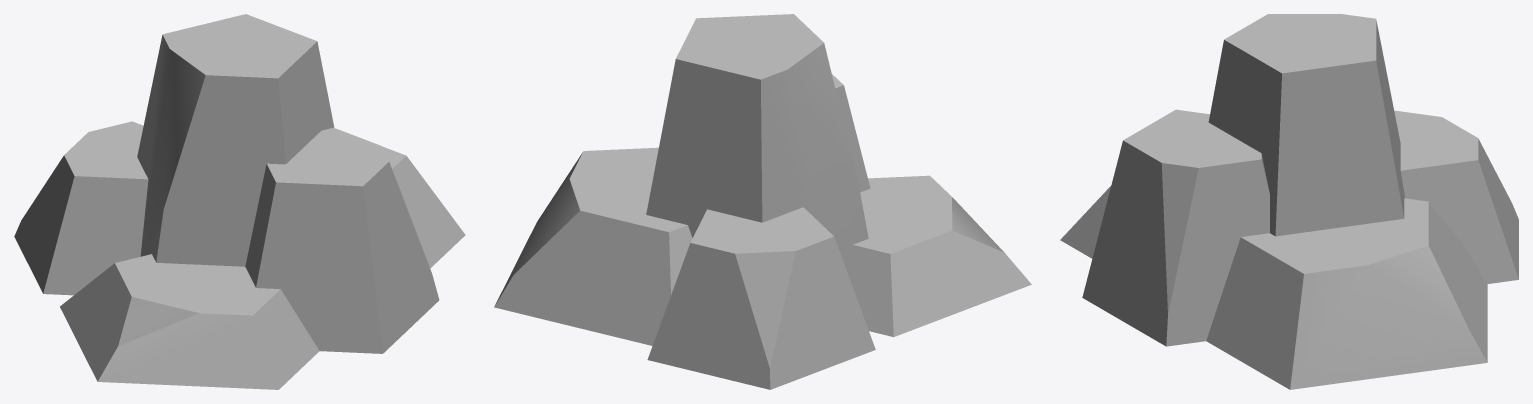
The model's file is rockB3.fbx.
The picture shows the model from 3 angles, left to right: view 1: azimuth 30°, elevation 25°; view 2: azimuth 150°, elevation 25°; view 3: azimuth 270°, elevation 25°; orthographic projection. The views are drawn at different scales.
Parts seen in each view (by area): view 1: rockB3; view 2: rockB3; view 3: rockB3.
Boxes of the visible parts, x1,y1,x2,y2 form: rockB3: [14, 14, 465, 389]; rockB3: [494, 14, 1031, 389]; rockB3: [1060, 14, 1518, 389].
Size of the model in its own units: 161 by 84.54 by 146.
